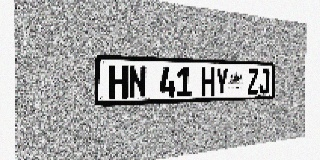1: (176, 67, 191, 97)
4: (160, 66, 176, 97)
H: (109, 65, 128, 99), (201, 67, 215, 96)
J: (259, 69, 269, 94)
N: (129, 65, 146, 98)
Y: (215, 68, 228, 95)
Z: (247, 68, 259, 94)
